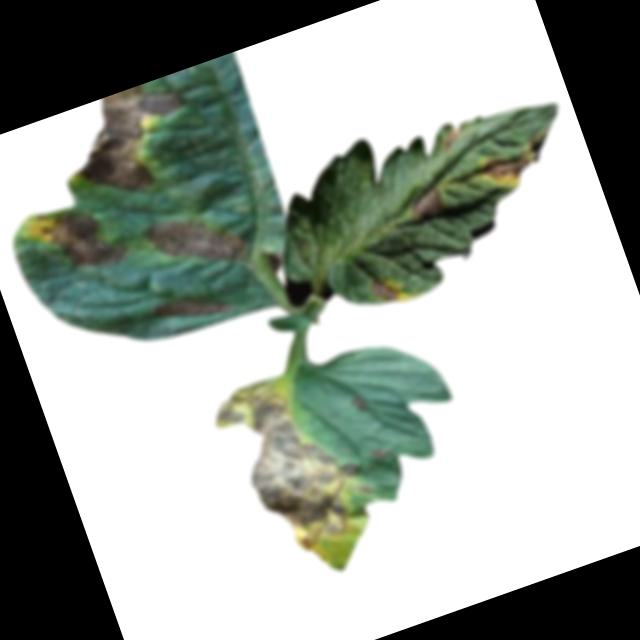Early_blight: (205, 360, 378, 566), (54, 74, 205, 209), (138, 194, 248, 288), (32, 192, 130, 284), (144, 276, 236, 339), (476, 144, 534, 194), (407, 182, 446, 220), (368, 270, 402, 306), (435, 123, 466, 155), (349, 390, 373, 415)
